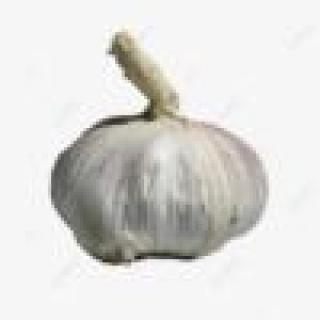Bawang Putih: (49, 24, 270, 277)
